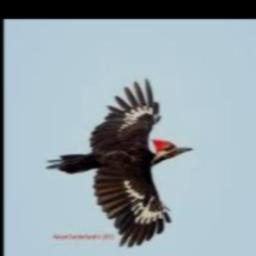Woodpecker: (45, 77, 191, 246)
